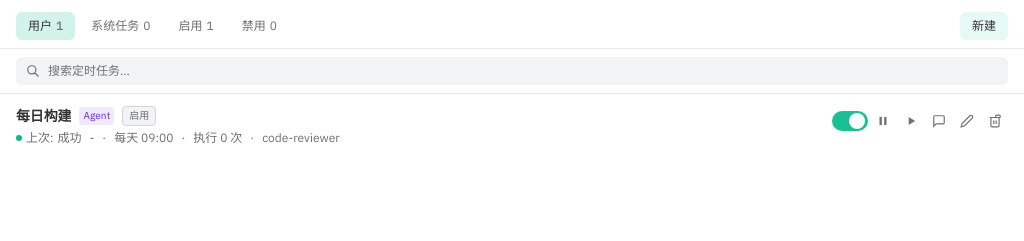
空态引导 › 搜索无结果：文案指向搜索词，与「一条都没有」不同
In the field with placeholder "搜索定时任务...": (512, 71) [16, 57, 1008, 85], type "zzz"
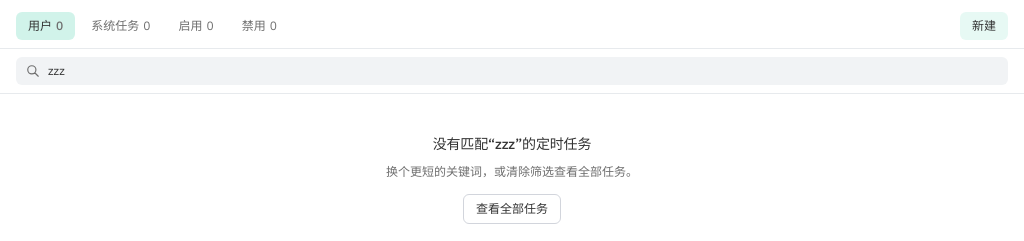
Result: the text "没有匹配“zzz”的定时任务" is shown at [433, 134, 591, 154]
